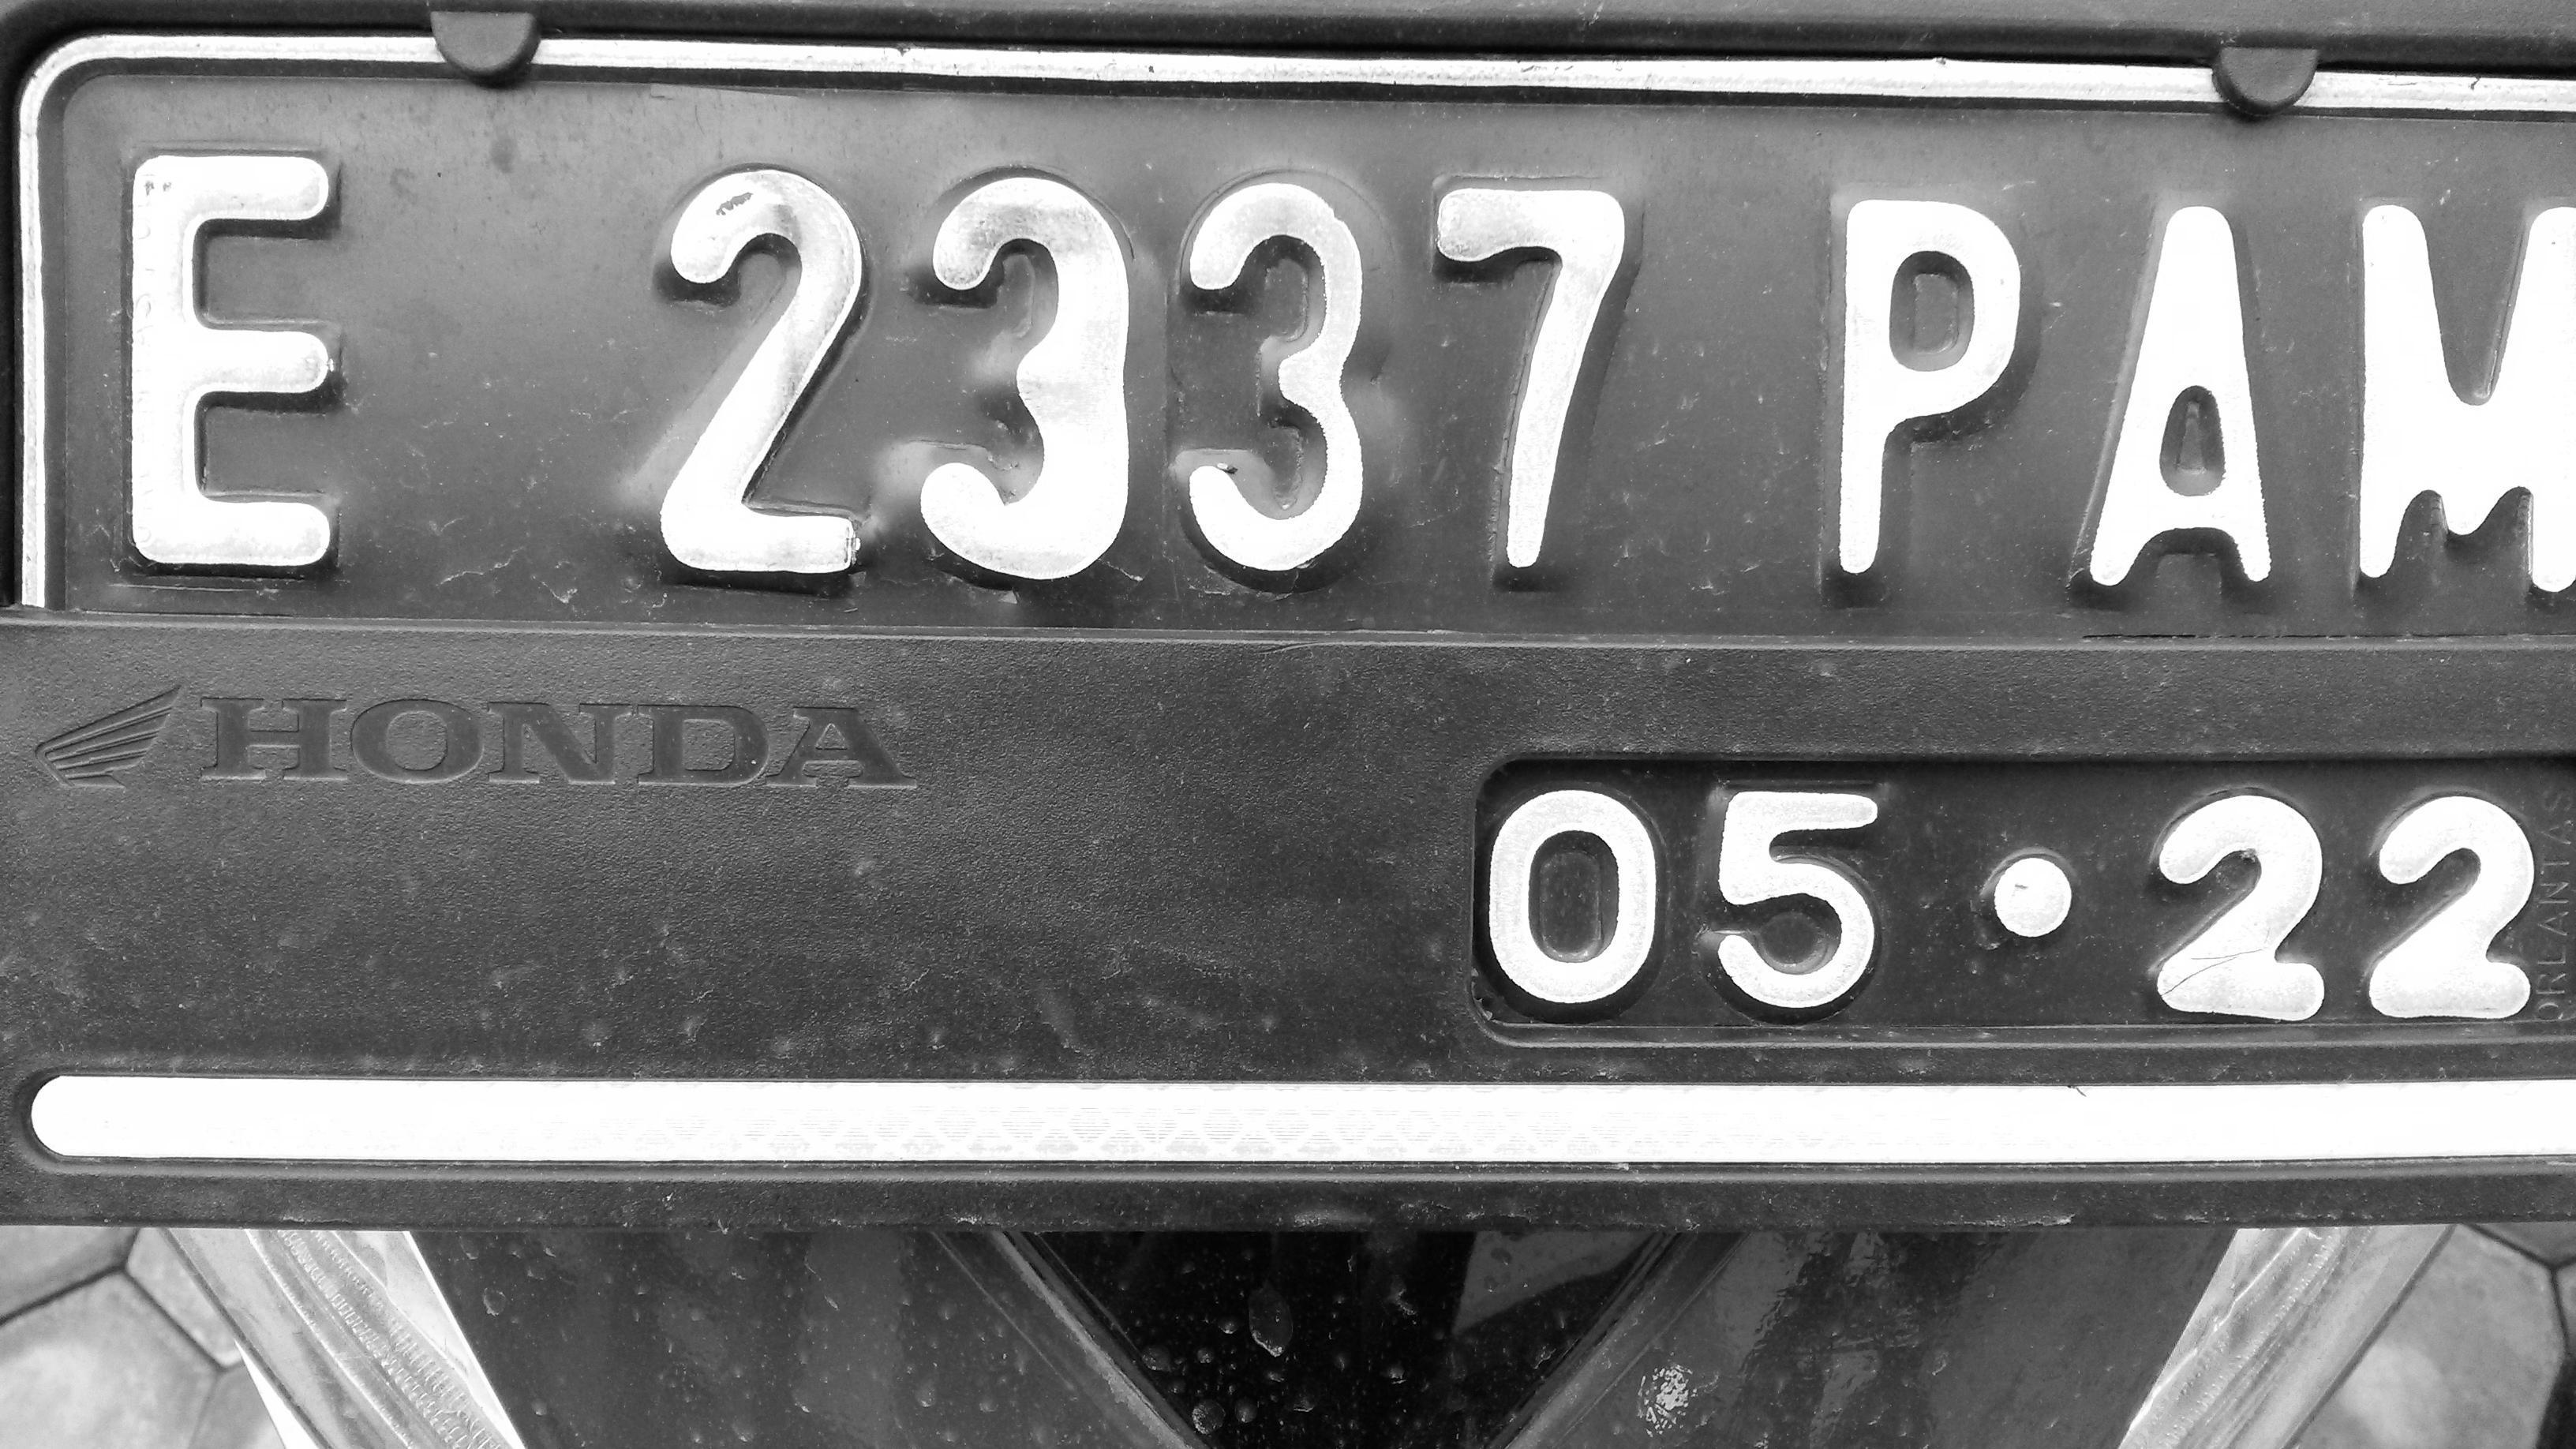2: (594, 145, 890, 594)
3: (863, 152, 1159, 593), (1146, 157, 1392, 598)
7: (1387, 157, 1672, 600)
A: (2045, 175, 2305, 616)
E: (106, 127, 379, 593)
M: (2307, 172, 2576, 607)
P: (1771, 165, 2042, 600)
